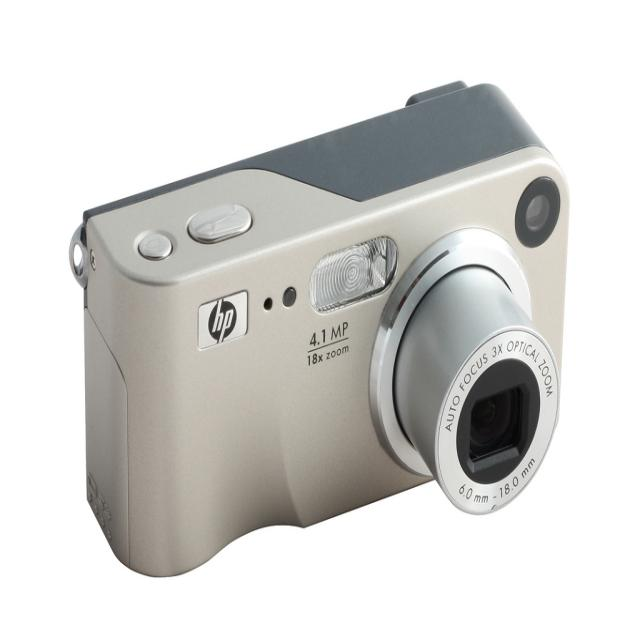HP: (197, 290, 251, 352)
